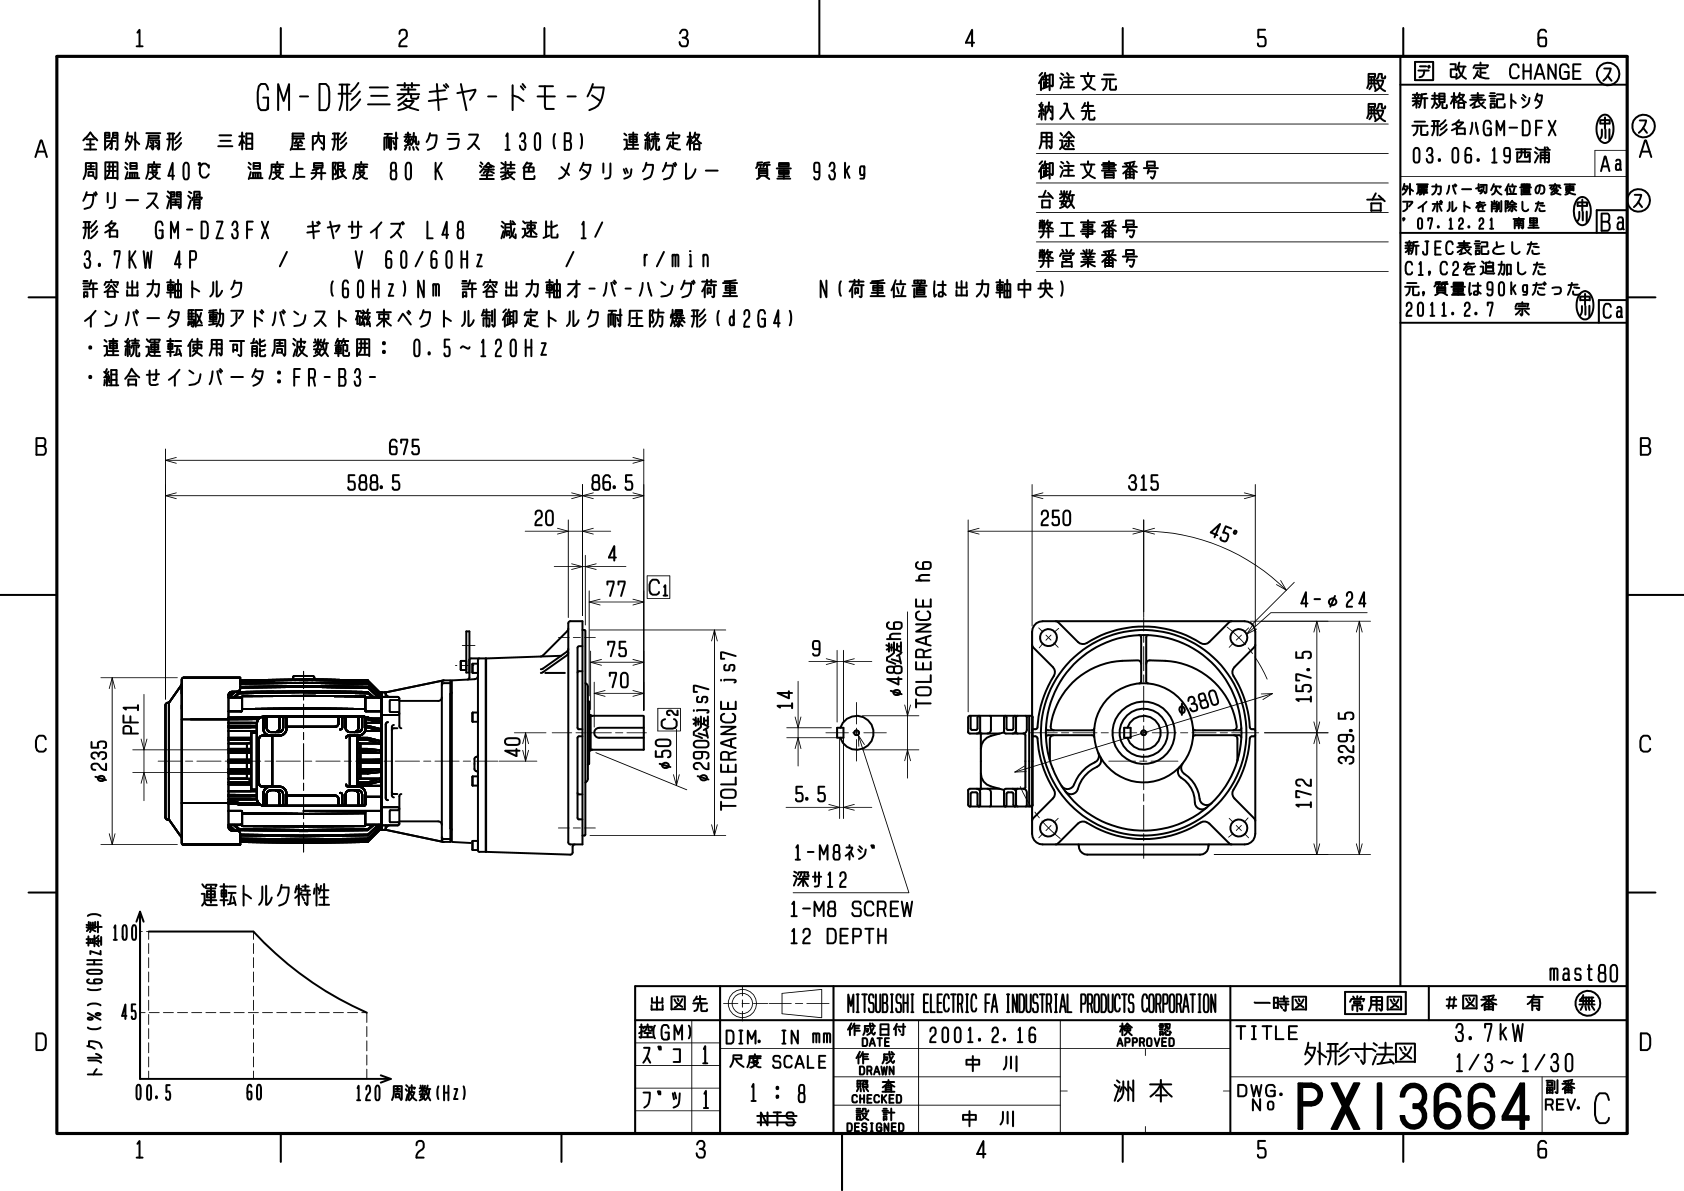GM_D_制御屋内_三相_フランジ: (10, 6, 1684, 1191)
